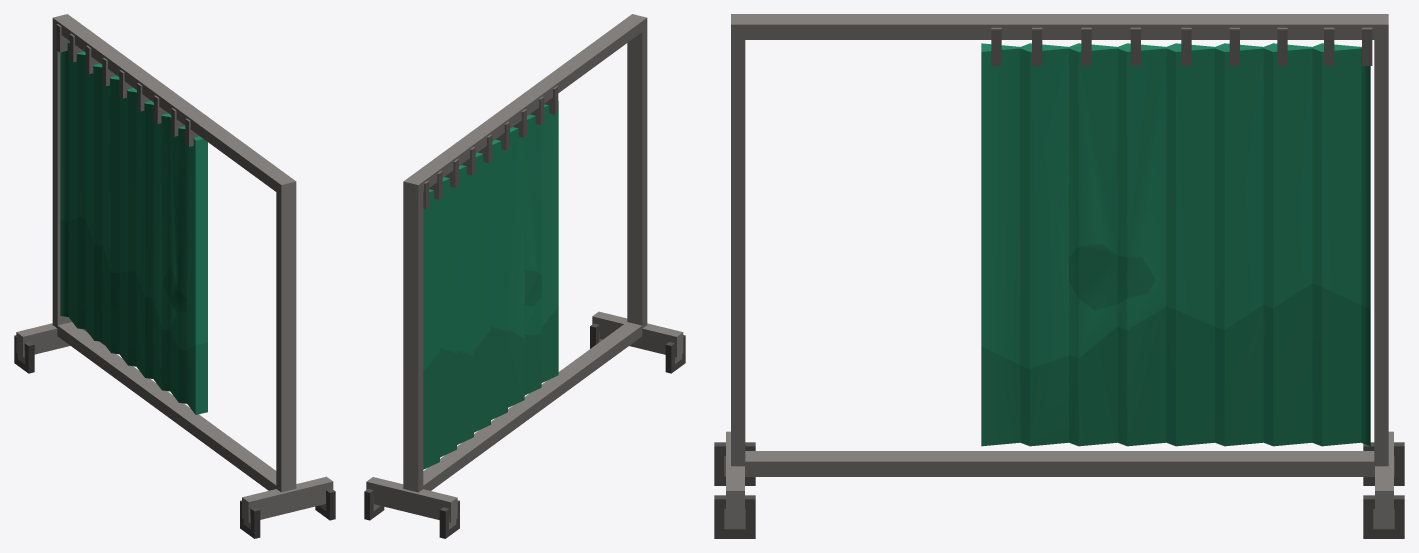
The model's file is AI_Prop_MedicalCurtain.fbx.
The picture shows the model from 3 angles, left to right: view 1: azimuth 30°, elevation 25°; view 2: azimuth 150°, elevation 25°; view 3: azimuth 270°, elevation 25°; orthographic projection. The views are drawn at different scales.
Visible parts, largest first — view 1: AI_Prop_MedicalCurtain; view 2: AI_Prop_MedicalCurtain; view 3: AI_Prop_MedicalCurtain.
Boxes of the visible parts, x1,y1,x2,y2 form: AI_Prop_MedicalCurtain: (14, 14, 335, 538); AI_Prop_MedicalCurtain: (364, 14, 685, 538); AI_Prop_MedicalCurtain: (714, 14, 1404, 538).
Bounding box in the file's own units: 0.9859 × 3.8 × 4.85.
